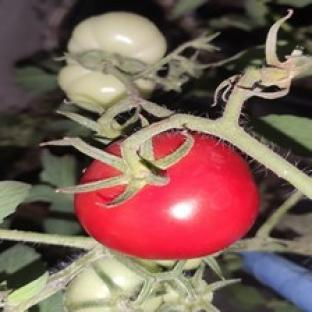Tomato: (74, 134, 259, 259), (67, 12, 167, 64), (65, 258, 143, 311), (59, 63, 125, 108)
